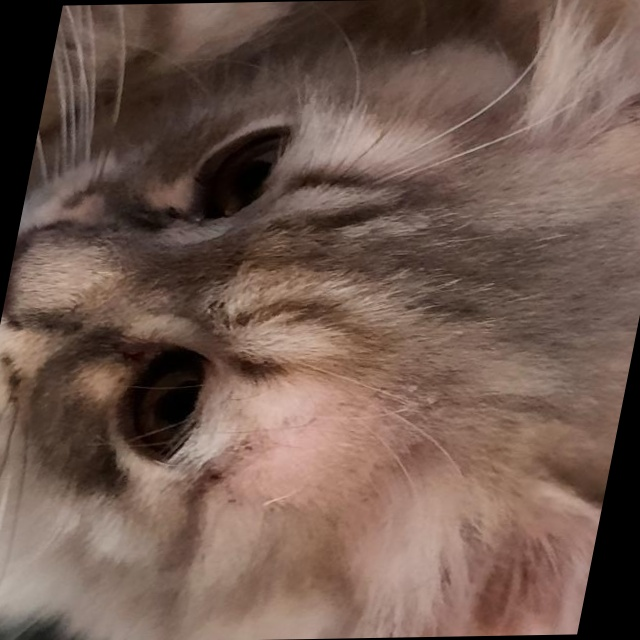hairloss: (205, 378, 334, 467)
